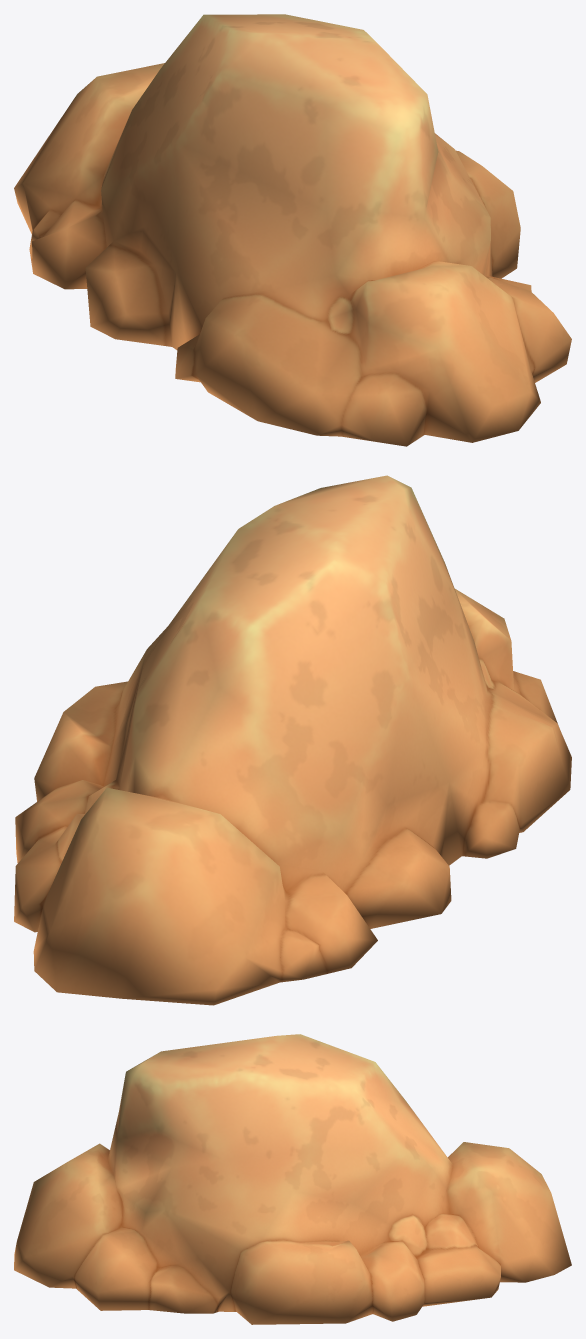
The model's file is rock_2.fbx.
3 renders of one model, top to bottom at view 1: azimuth 30°, elevation 25°; view 2: azimuth 150°, elevation 25°; view 3: azimuth 270°, elevation 25°, orthographic. The views are drawn at different scales.
Visible parts, largest first — view 1: Rock_2_LOD0; view 2: Rock_2_LOD0; view 3: Rock_2_LOD0.
Part boxes in pixels (bbox=[...]): Rock_2_LOD0: bbox=[14, 14, 571, 446]; Rock_2_LOD0: bbox=[14, 475, 571, 1005]; Rock_2_LOD0: bbox=[14, 1034, 571, 1324].
Size of what is drawn, in the model's own units: 196 by 144 by 345.
